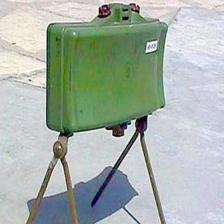MOH-50: (41, 8, 174, 141)
